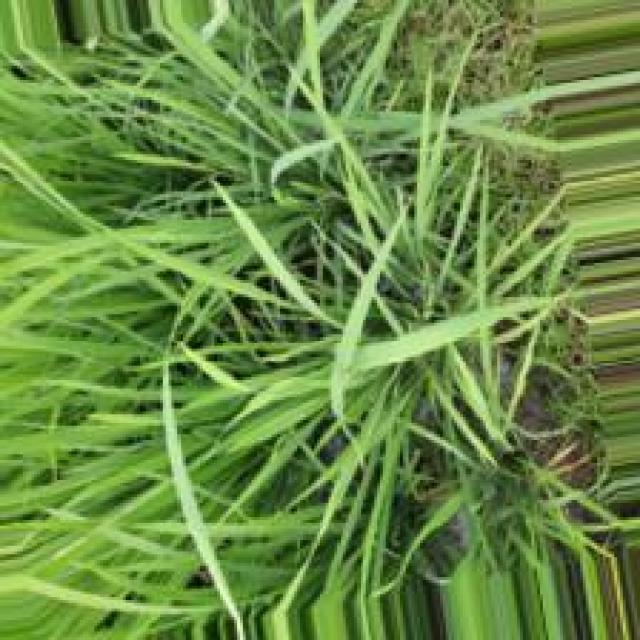HealthyLeaf: (391, 319, 466, 361), (244, 402, 311, 445), (49, 236, 107, 259), (346, 292, 372, 330)
